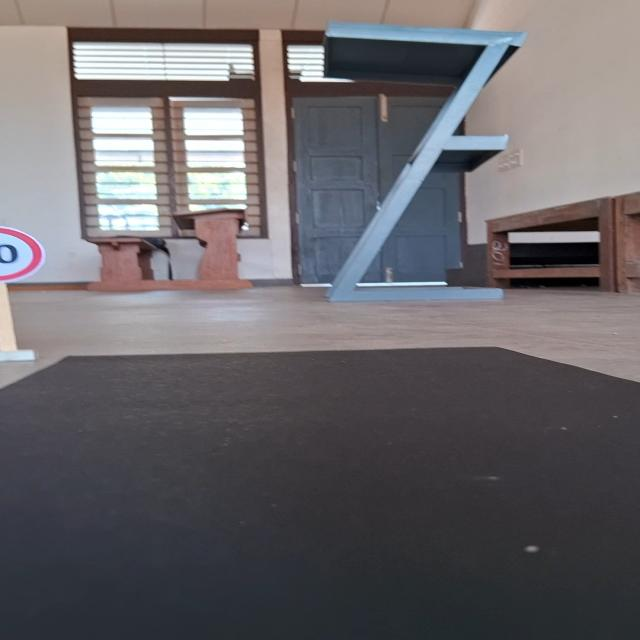Reject: (0, 223, 48, 285)
